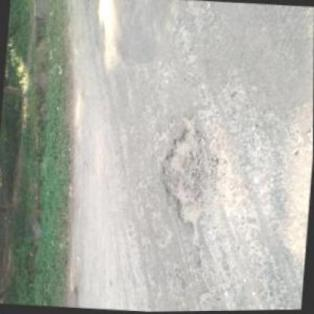Hueco: (155, 111, 222, 235)
